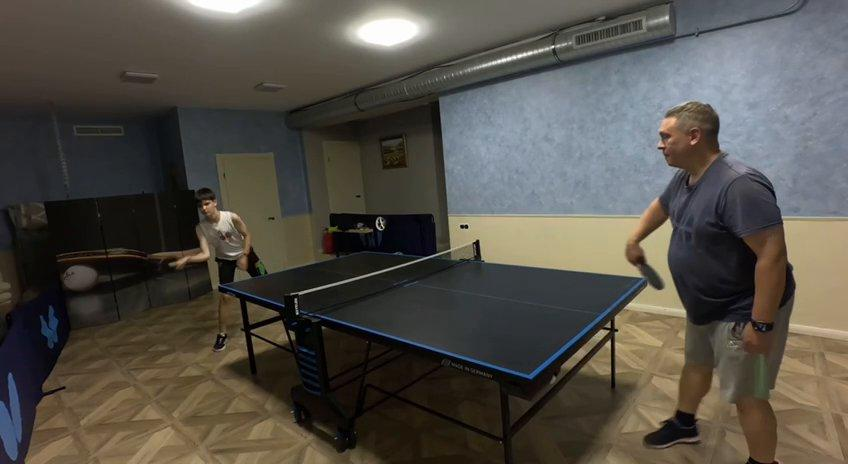Net: (284, 241, 482, 318)
Player1: (170, 187, 266, 349)
Player2: (625, 102, 794, 463)
Table: (228, 253, 641, 373)
